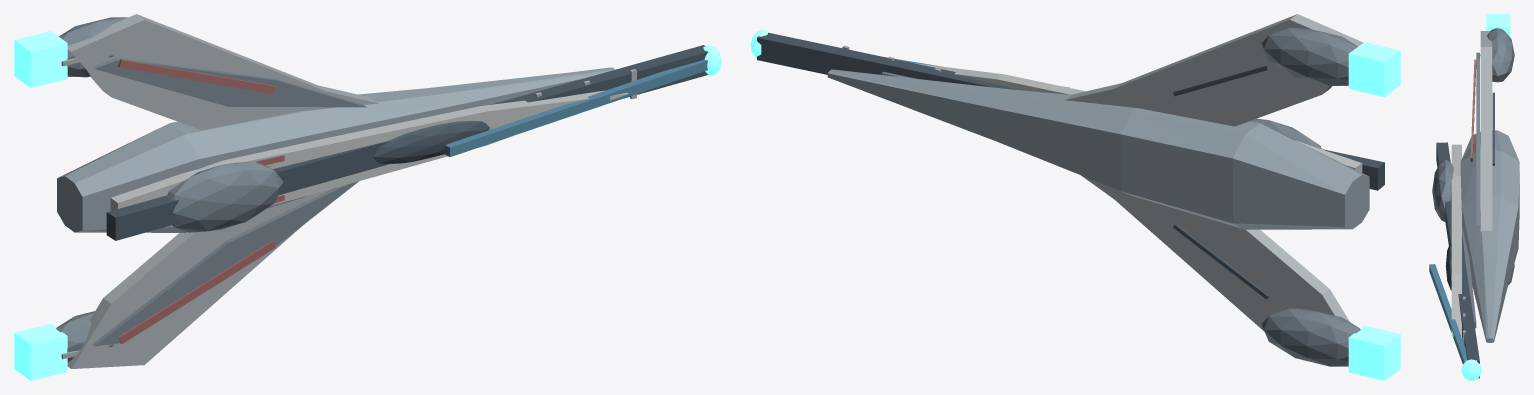
The model's file is normandy-valkyrie.glb.
3 views of the same model, side by side, from view 1: azimuth 30°, elevation 25°; view 2: azimuth 150°, elevation 25°; view 3: azimuth 270°, elevation 25° (orthographic). The views are drawn at different scales.
Parts seen in each view (by area): view 1: Hull and platework, Engines and emitters; view 2: Hull and platework, Engines and emitters; view 3: Hull and platework, Engines and emitters.
Boxes of the visible parts, x1,y1,x2,y2 form: Hull and platework: (56, 14, 707, 368); Engines and emitters: (14, 31, 721, 380); Hull and platework: (757, 14, 1384, 366); Engines and emitters: (750, 30, 1400, 380); Hull and platework: (1429, 28, 1519, 378); Engines and emitters: (1461, 14, 1510, 380).
Bounding box in the file's own units: 4.61 × 2.24 × 0.7342.
